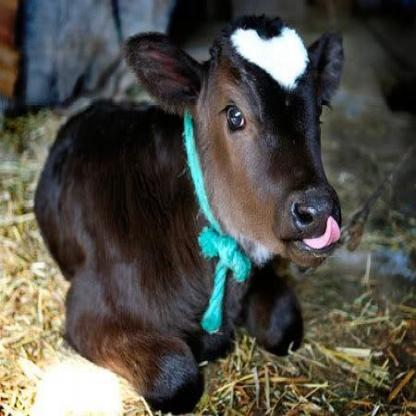cow: (33, 20, 343, 414)
